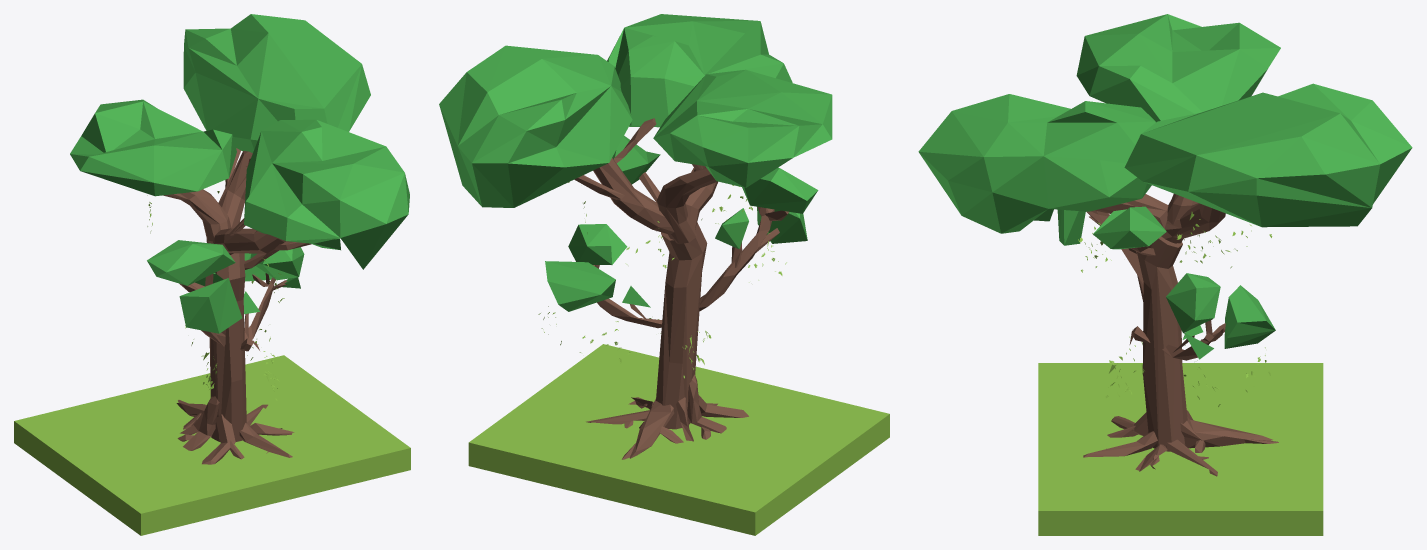
Rendered from vine-tree.glb.
The picture shows the model from 3 angles, left to right: view 1: azimuth 30°, elevation 25°; view 2: azimuth 150°, elevation 25°; view 3: azimuth 270°, elevation 25°; orthographic projection. The views are drawn at different scales.
Visible parts, largest first — view 1: group470830306, group1824895846, group1718750042; view 2: group470830306, group1824895846, group1718750042; view 3: group470830306, group1824895846, group1718750042.
Boxes of the visible parts, x1,y1,x2,y2 form: group470830306: (70, 14, 409, 333); group1824895846: (14, 180, 410, 535); group1718750042: (163, 148, 311, 464); group470830306: (439, 14, 832, 311); group1824895846: (468, 182, 889, 535); group1718750042: (574, 118, 788, 459); group470830306: (918, 14, 1412, 359); group1824895846: (1038, 211, 1323, 535); group1718750042: (1083, 193, 1278, 476).
Size of the model in its own units: 1.16 by 1.35 by 1.44.
